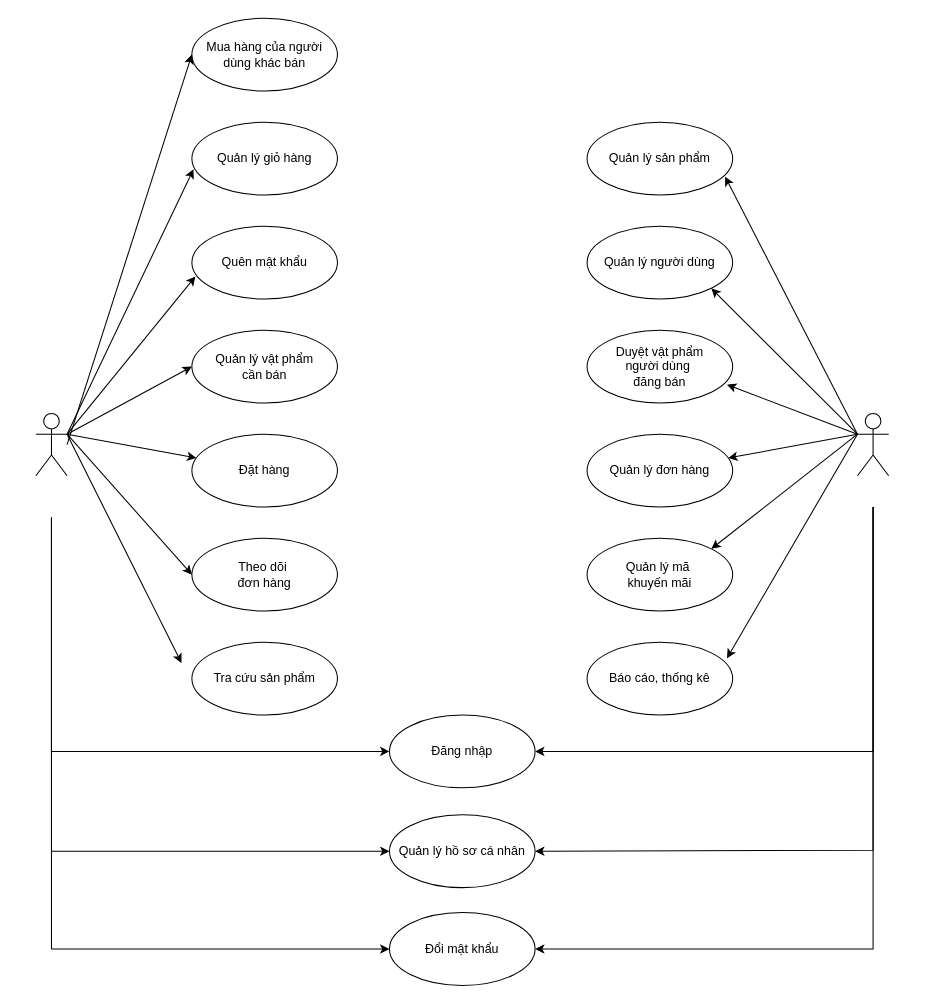
Some shapes in this 926 by 1004 pixel diagram are drawn without their labels. Here are the shapes that lost their labels. From the top down, the box of each, then its label:
(35, 412, 67, 476): Người dùng
(856, 412, 889, 476): Quản trị viên
